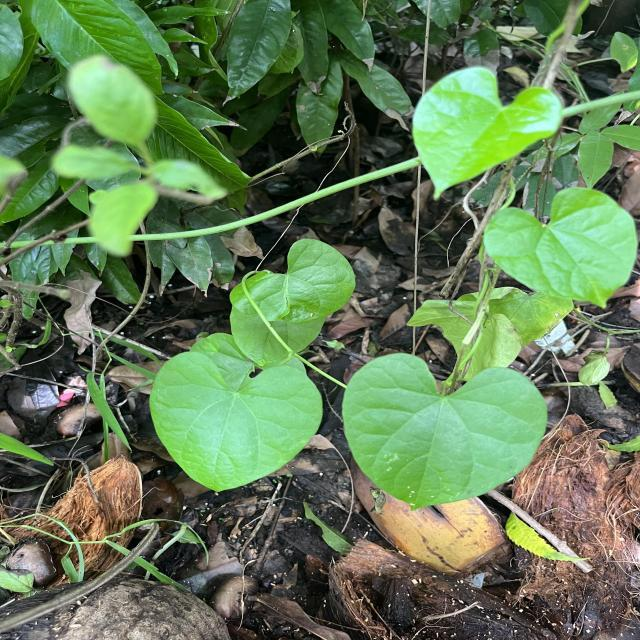Tinospora cordifolia: (340, 350, 550, 514), (147, 349, 326, 494), (409, 64, 566, 203), (482, 184, 640, 310)
